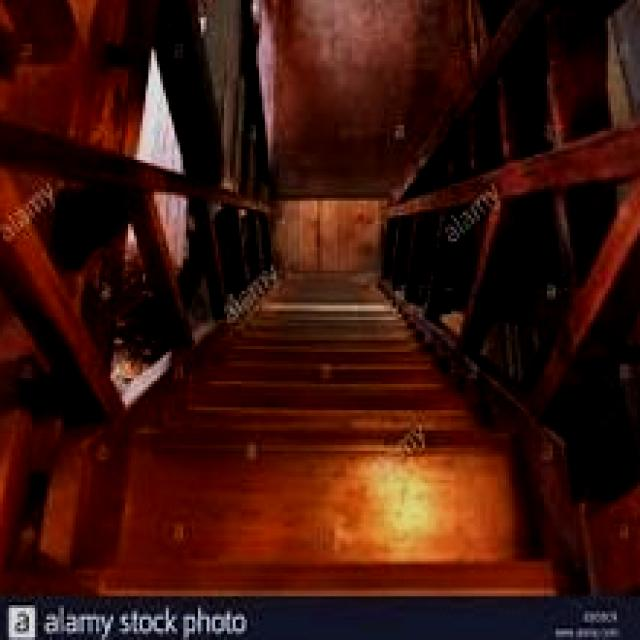downstair: (150, 330, 502, 466)
